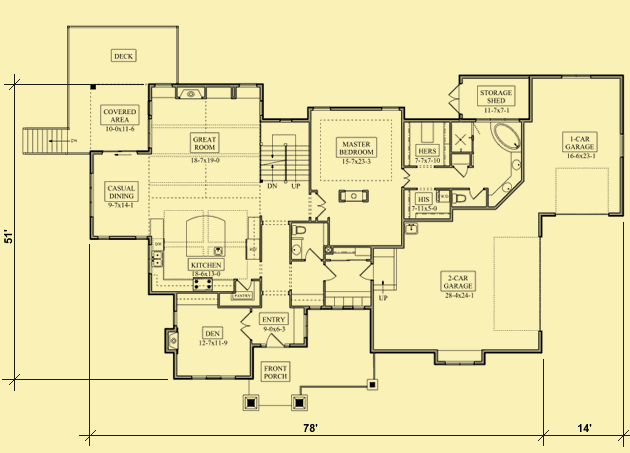door: (233, 309, 256, 344), (446, 82, 465, 117), (308, 189, 330, 218), (259, 331, 288, 352), (303, 244, 329, 265), (357, 264, 382, 282), (397, 164, 412, 189), (452, 161, 472, 179), (323, 262, 339, 284), (233, 275, 255, 290), (468, 184, 487, 199)
large sink: (287, 221, 308, 237), (453, 187, 466, 206)
sink: (176, 83, 207, 100), (165, 331, 180, 356)
small sink: (490, 154, 528, 199), (290, 236, 305, 261)
stairs: (258, 117, 310, 192), (19, 126, 81, 160)
tub: (491, 118, 521, 155)
twin sink: (151, 247, 164, 273)
windows: (85, 169, 98, 222), (188, 371, 239, 383), (440, 356, 477, 370), (557, 72, 596, 84), (377, 101, 403, 116), (236, 78, 258, 92), (311, 105, 338, 115)
